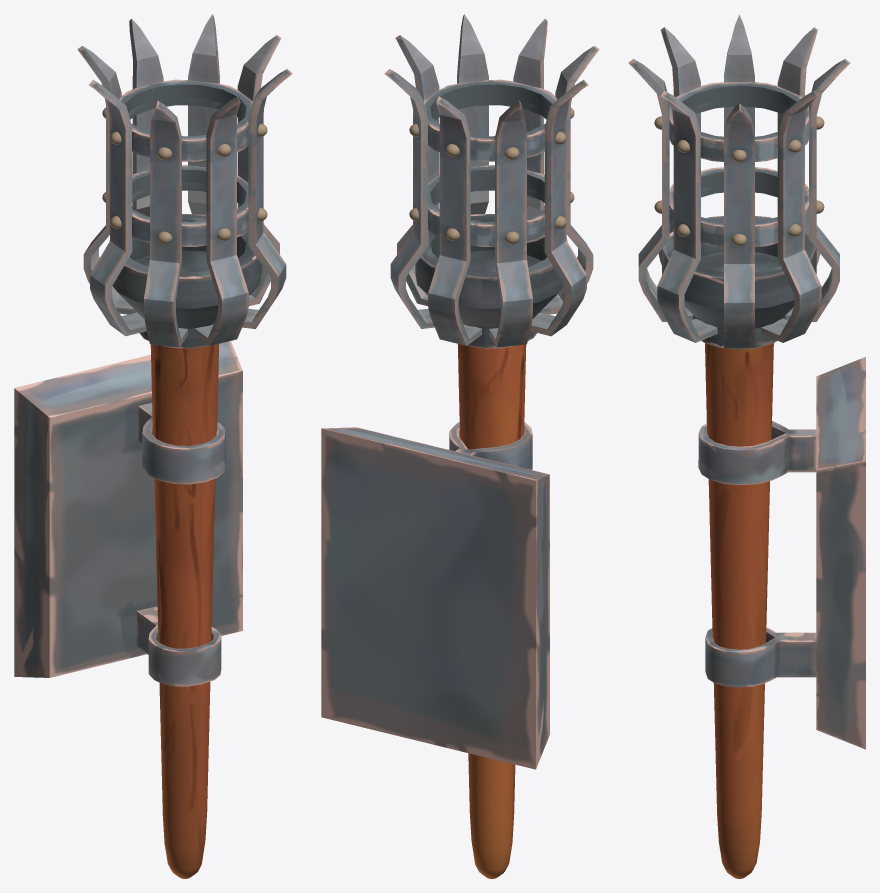
File: torch.glb
The picture shows the model from 3 angles, left to right: view 1: azimuth 30°, elevation 25°; view 2: azimuth 150°, elevation 25°; view 3: azimuth 270°, elevation 25°; orthographic projection.
Parts seen in each view (by area): view 1: torch1, torch5, torch4, torch, torch2, torch3, torch6; view 2: torch1, torch5, torch4, torch2, torch3, torch, torch6; view 3: torch5, torch4, torch1, torch, torch2, torch3, torch6.
Part boxes in pixels (x1,y1,x2,y2): torch1: (14, 341, 242, 677); torch5: (77, 14, 292, 347); torch4: (150, 344, 218, 878); torch: (136, 403, 225, 686); torch2: (119, 79, 253, 246); torch3: (109, 214, 261, 348); torch6: (102, 107, 267, 244); torch1: (321, 427, 549, 769); torch5: (384, 14, 599, 347); torch4: (457, 344, 526, 878); torch2: (423, 79, 557, 246); torch3: (415, 214, 567, 348); torch: (449, 422, 532, 469); torch6: (409, 108, 574, 244); torch5: (628, 14, 850, 347); torch4: (705, 343, 773, 878); torch1: (816, 357, 865, 749); torch: (698, 421, 816, 687); torch2: (669, 82, 809, 246); torch3: (662, 216, 816, 349); torch6: (654, 116, 824, 246).
Size of the model in its own units: 1.12 by 4.08 by 1.08.
Materials: 7 (6 with a texture image).
